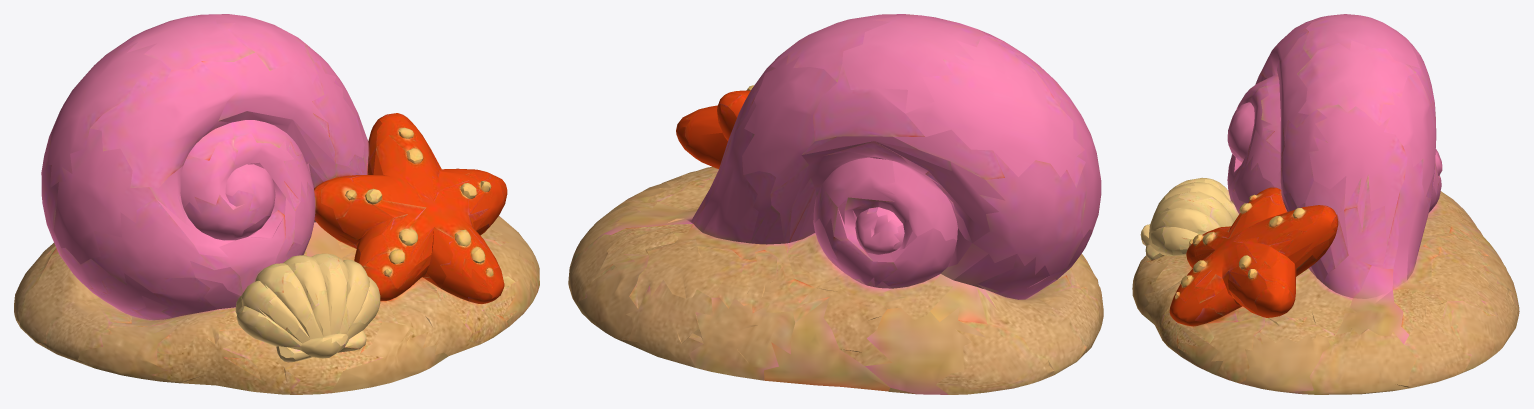
The model's file is oe-musling.glb.
3 renders of one model, left to right at view 1: azimuth 30°, elevation 25°; view 2: azimuth 150°, elevation 25°; view 3: azimuth 270°, elevation 25°, orthographic. The views are drawn at different scales.
Size of the model in its own units: 1.9 by 1.09 by 1.61.
Materials: 1 (1 with a texture image).
